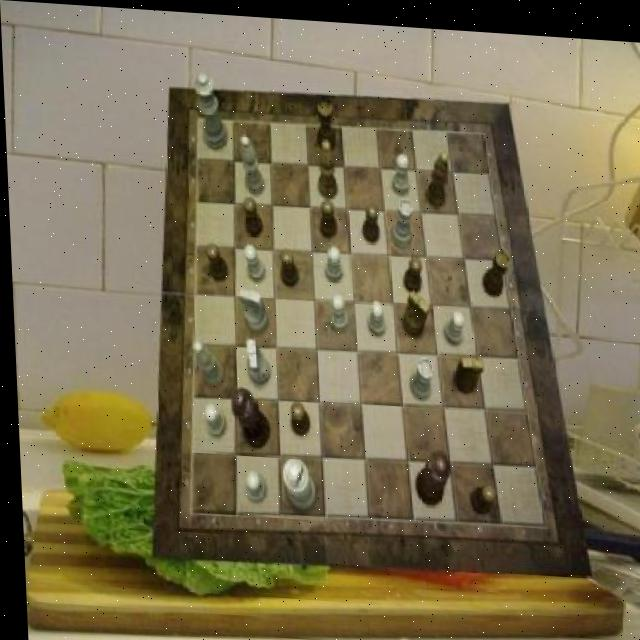bishop: (423, 144, 450, 202), (315, 135, 336, 196)
black-bishop: (227, 383, 266, 447)
black-king: (400, 284, 429, 333), (450, 349, 482, 388)
black-knight: (466, 476, 494, 510), (204, 239, 226, 278), (401, 250, 421, 288), (360, 199, 379, 239), (242, 194, 260, 235), (279, 245, 298, 283), (317, 195, 335, 234), (286, 397, 306, 432)
black-pawn: (410, 442, 448, 502)
black-queen: (480, 242, 509, 291), (317, 96, 336, 148)
black-rook: (190, 339, 222, 386), (239, 132, 264, 192)
white-bishop: (277, 453, 312, 508)
white-king: (237, 286, 266, 331), (244, 335, 268, 382)
white-knight: (440, 304, 463, 340), (242, 242, 263, 279), (201, 400, 223, 435), (327, 289, 347, 327), (391, 149, 409, 190), (242, 467, 263, 501), (365, 295, 384, 331), (322, 241, 340, 278)
white-pawn: (195, 70, 227, 148)
white-queen: (389, 193, 413, 243), (407, 351, 433, 395)
